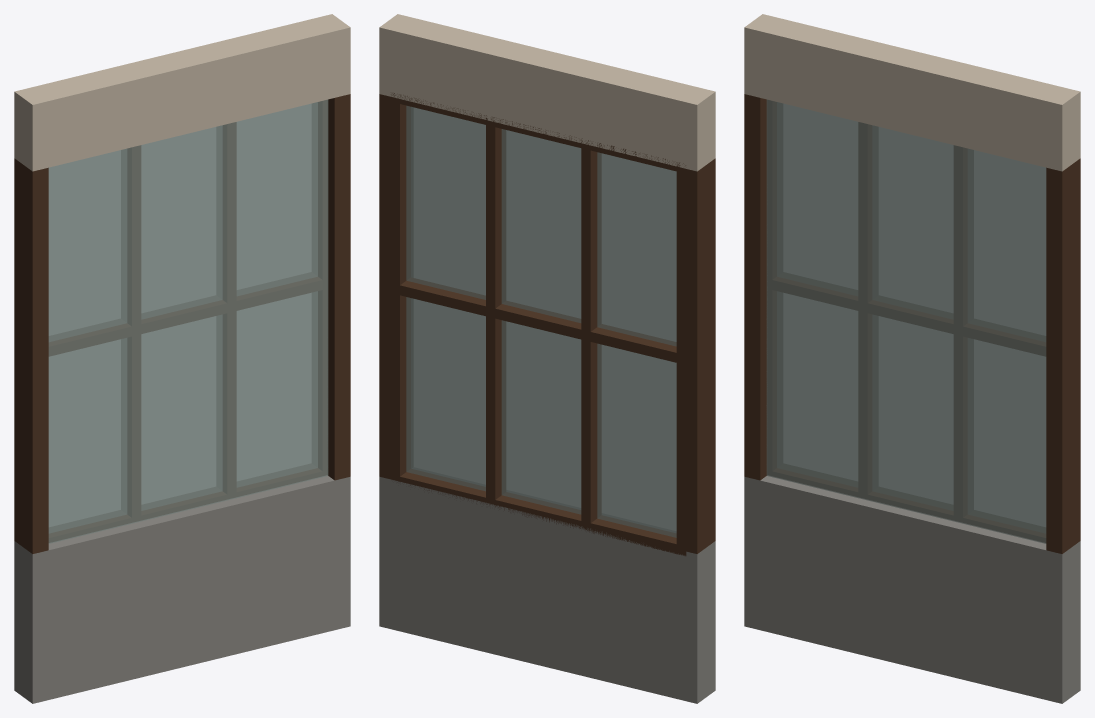
Rendered from SM_K_SchWindowWall.obj.
3 views of the same model, side by side, from view 1: azimuth 30°, elevation 25°; view 2: azimuth 150°, elevation 25°; view 3: azimuth 330°, elevation 25° (orthographic).
Visible parts, largest first — view 1: SM_K_SchWindowWall; view 2: SM_K_SchWindowWall; view 3: SM_K_SchWindowWall.
Part boxes in pixels (left/top/right/bottom): SM_K_SchWindowWall: left=14, top=14, right=350, bottom=703; SM_K_SchWindowWall: left=379, top=14, right=715, bottom=703; SM_K_SchWindowWall: left=744, top=14, right=1080, bottom=703.
Bounding box in the file's own units: 2 × 3.6 × 0.2.
